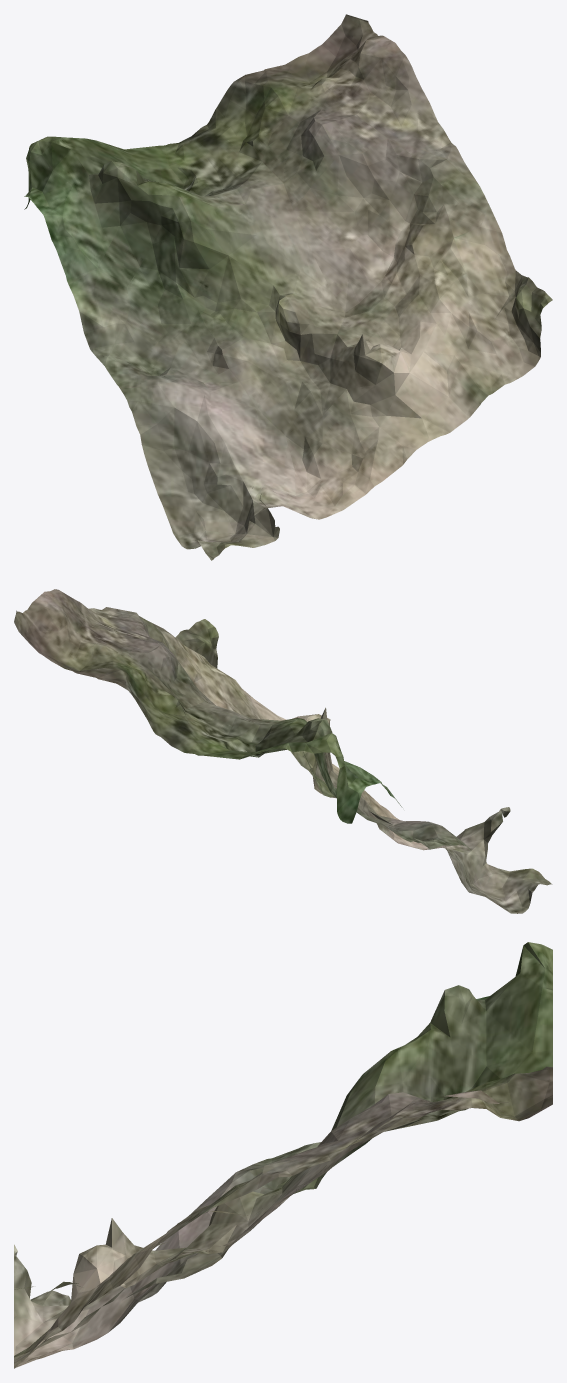
The picture shows the model from 3 angles, top to bottom: view 1: azimuth 30°, elevation 25°; view 2: azimuth 150°, elevation 25°; view 3: azimuth 270°, elevation 25°; orthographic projection. The views are drawn at different scales.
Size of the model in its own units: 5.9 by 5.42 by 5.9.
Materials: 3 (3 with a texture image).
